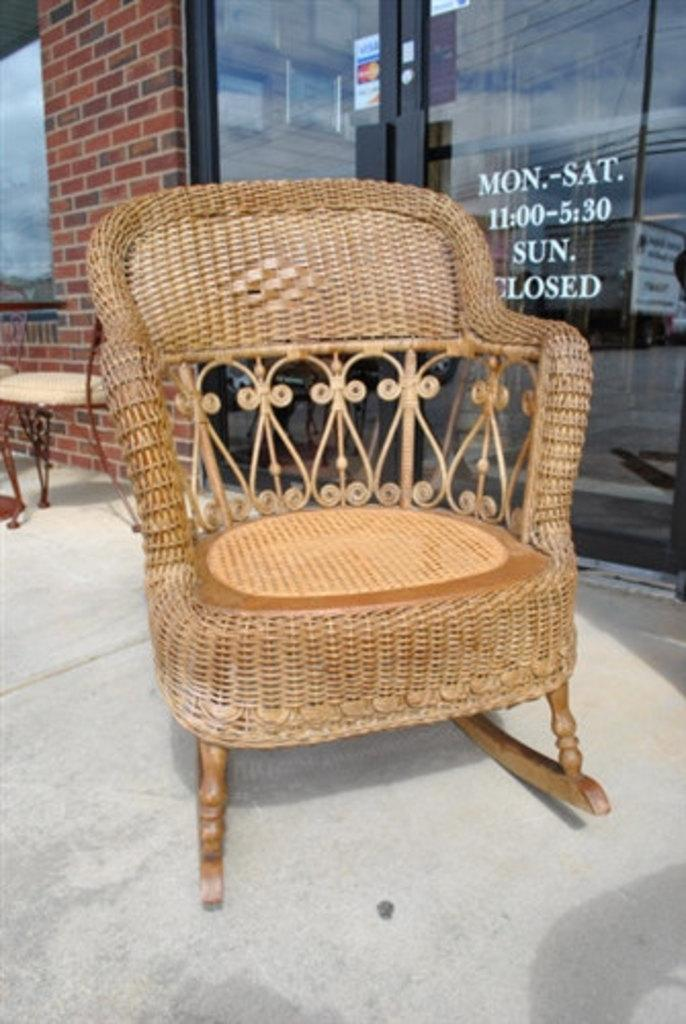Chair: (84, 180, 612, 903)
